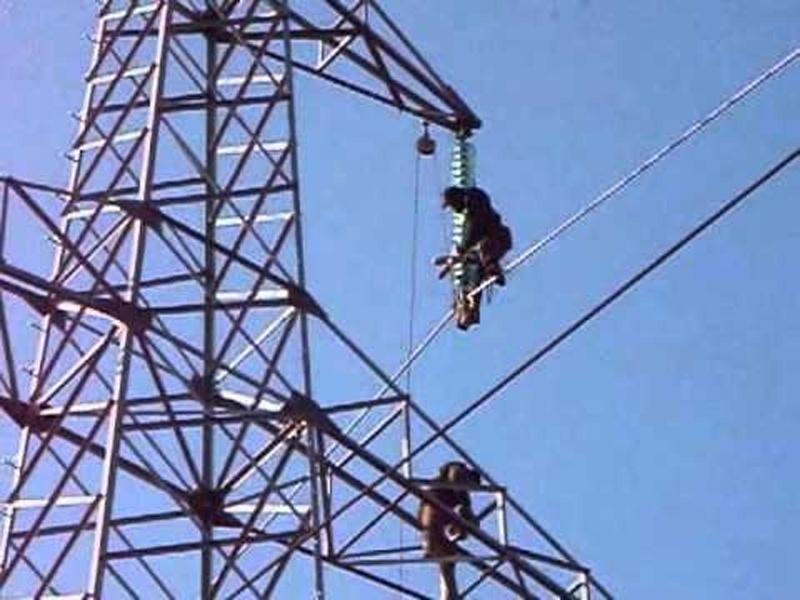power_tower: (3, 11, 603, 590)
